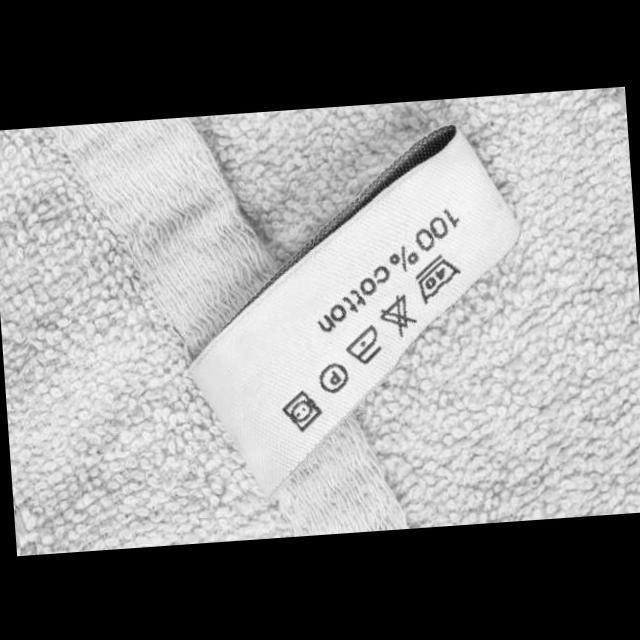40C: (409, 245, 466, 308)
DN_bleach: (374, 288, 422, 340)
iron_low: (340, 319, 386, 369)
normal_dry_clean_solvents: (314, 356, 352, 396)
tumble_dry_medium: (276, 383, 326, 438)
